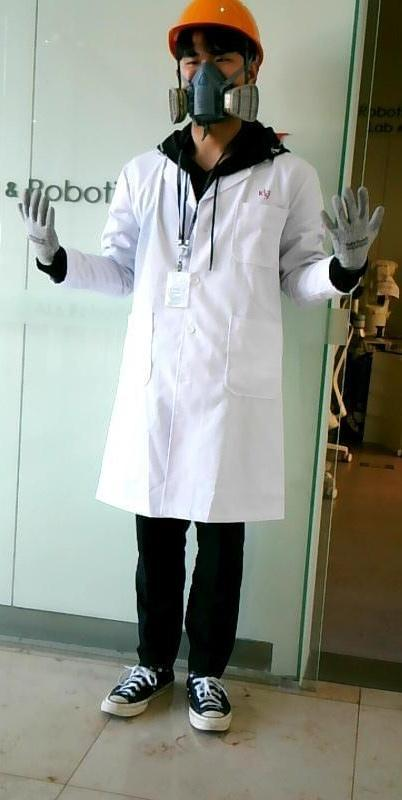lab_coat: (103, 165, 302, 483)
